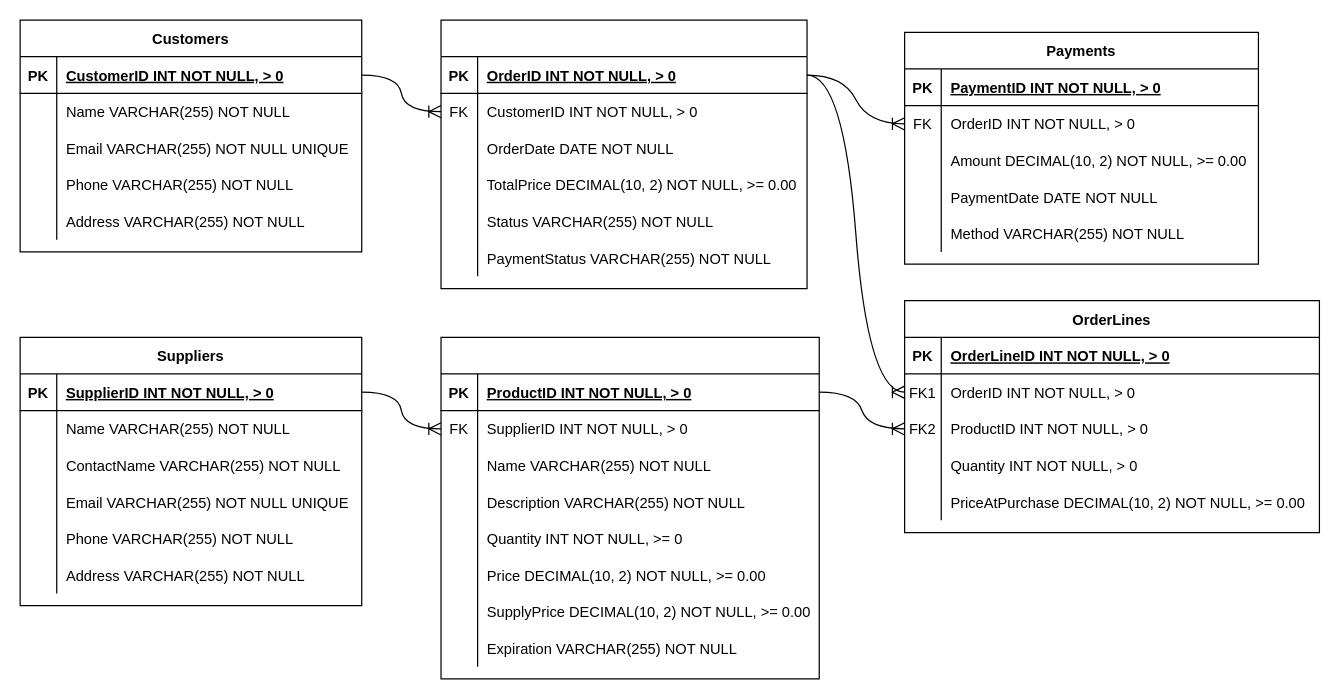
Some shapes in this 1340 by 699 pixel diagram are drawn without their labels. Each missing label, with the box of its shape:
Orders: (440, 19, 807, 289)
Products: (440, 336, 819, 679)
